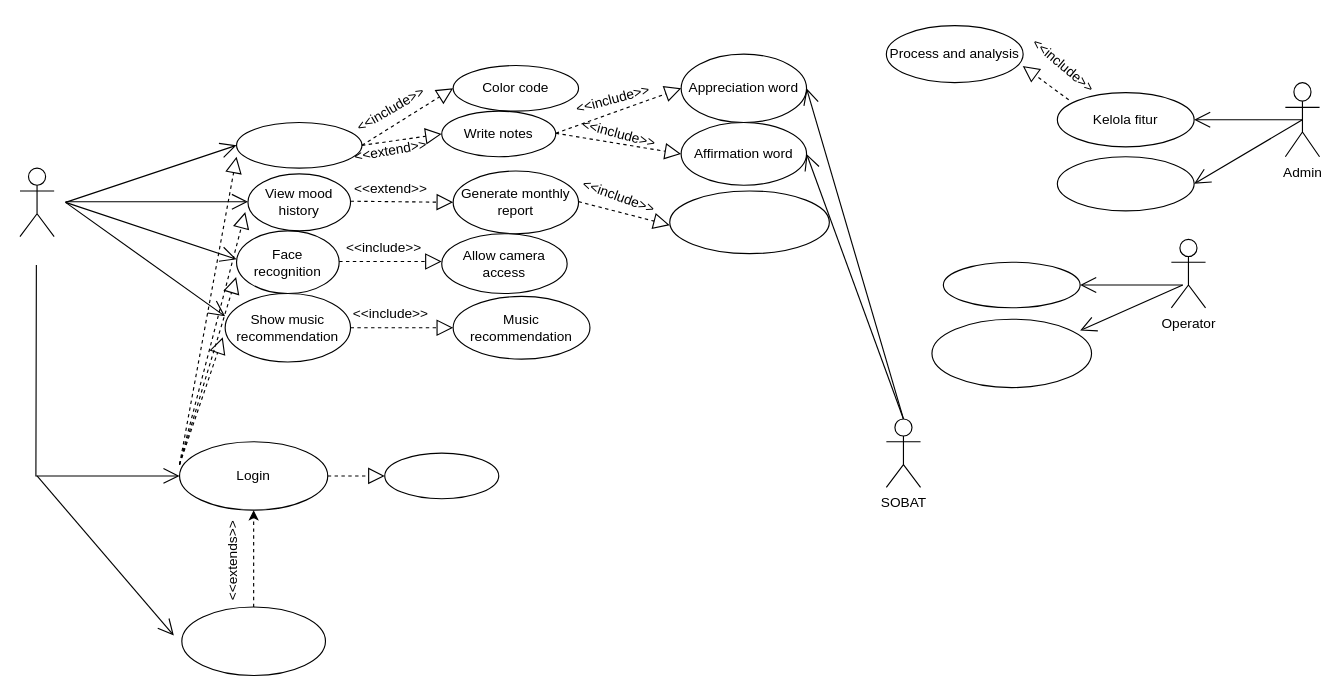
This 1342x695 diagram has some shape labels left out. The centre of each missing label's shape, as x and y in pixels:
Average mood: point 749,222
Enter mood: point 298,144
Input quisioner: point 1011,284
Input warna: point 1011,353
Kelola User: point 1125,183
Profile access: point 441,475
Register: point 253,640
User: point 36,202
